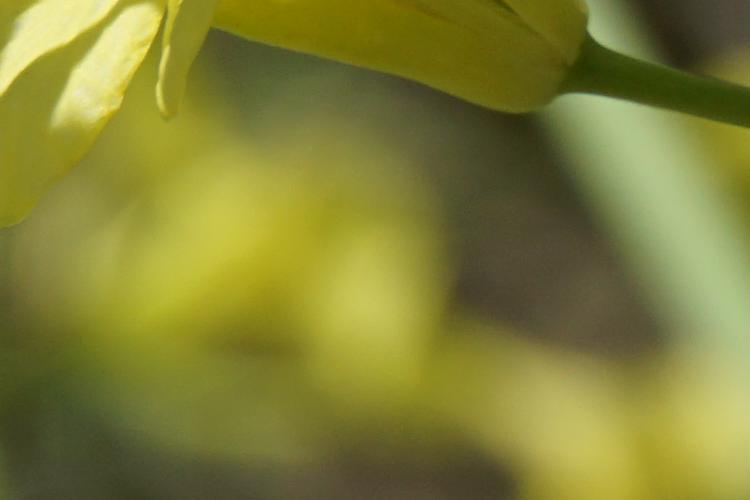yellow: (12, 5, 635, 203)
